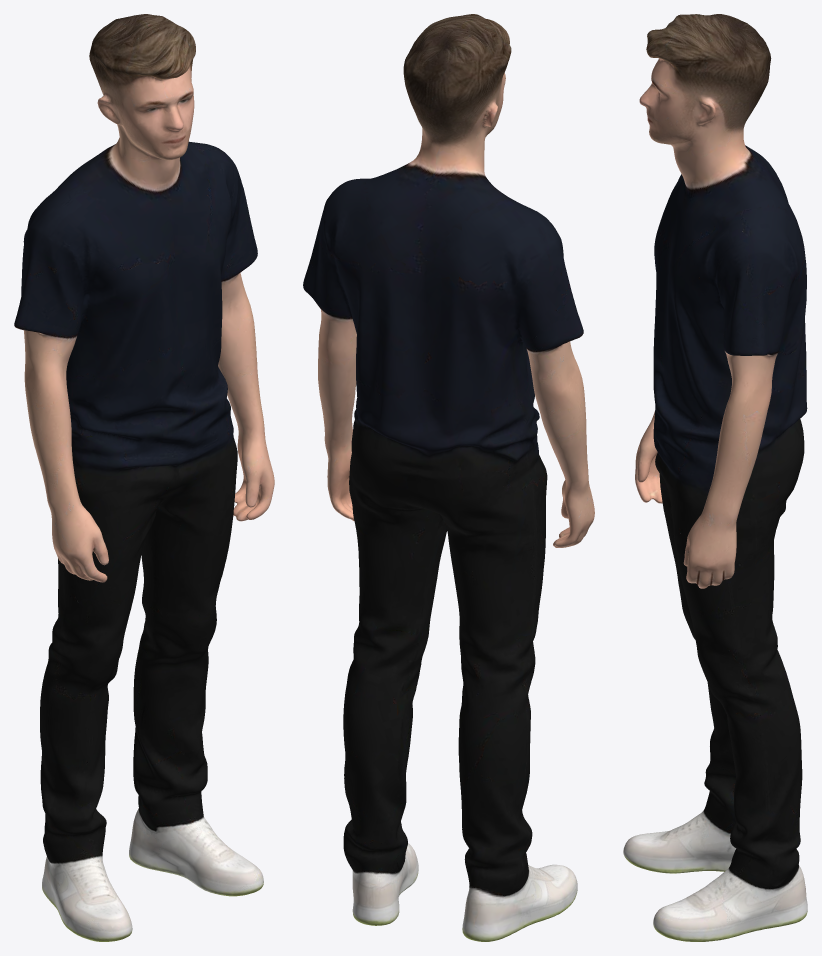
Rendered from anton.glb.
The picture shows the model from 3 angles, left to right: view 1: azimuth 30°, elevation 25°; view 2: azimuth 150°, elevation 25°; view 3: azimuth 270°, elevation 25°; orthographic projection.
Bounding box in the file's own units: 0.5828 × 1.9 × 0.3619.
1 material, 1 textured.
